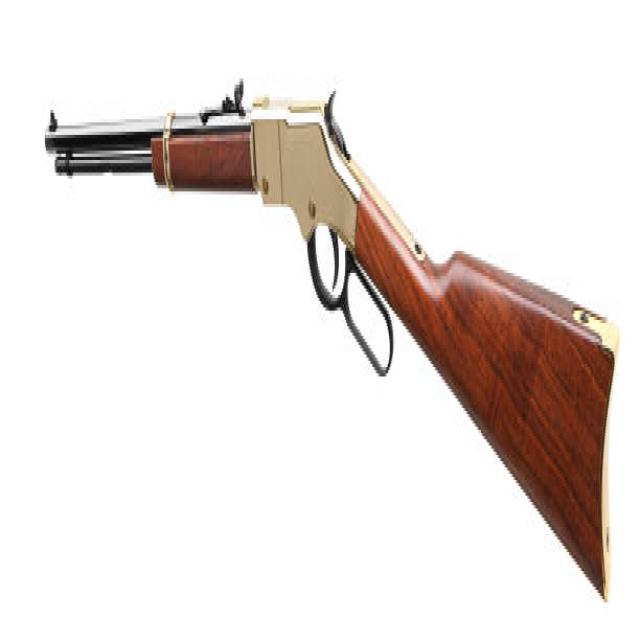rifle: (37, 74, 625, 614)
